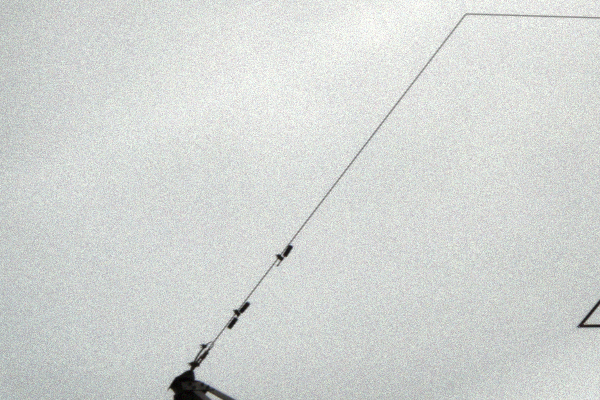damper: (226, 300, 251, 330)
damper_defect: (274, 243, 294, 270)
